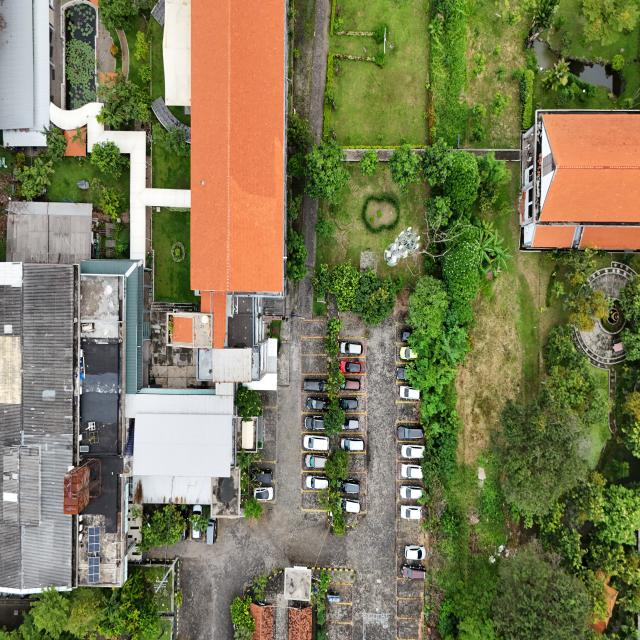Tree: (305, 138, 354, 203), (406, 273, 450, 340), (11, 154, 58, 199), (90, 138, 133, 181), (388, 145, 422, 191), (241, 492, 266, 522), (358, 148, 379, 177)
